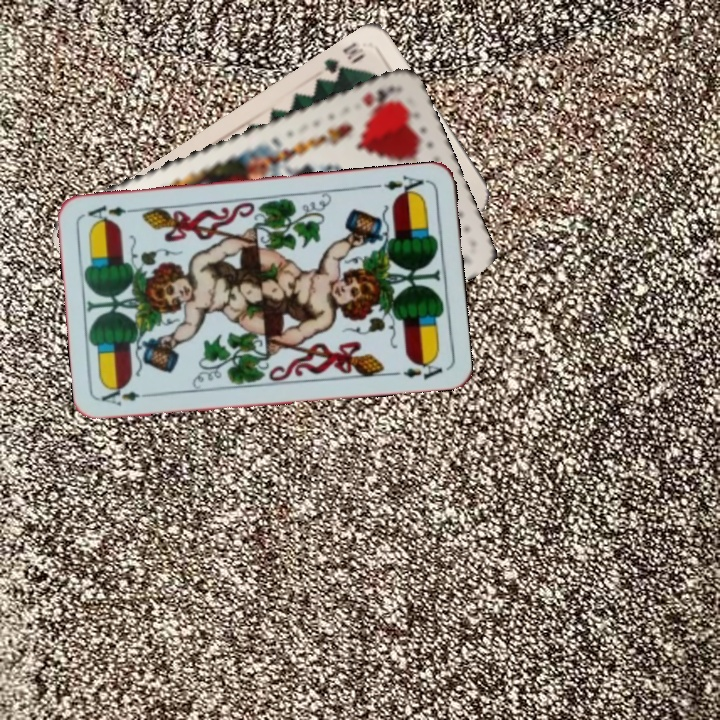EA: (98, 383, 157, 409), (380, 171, 429, 199)
G10: (319, 38, 367, 84)
HK: (358, 82, 397, 109)
